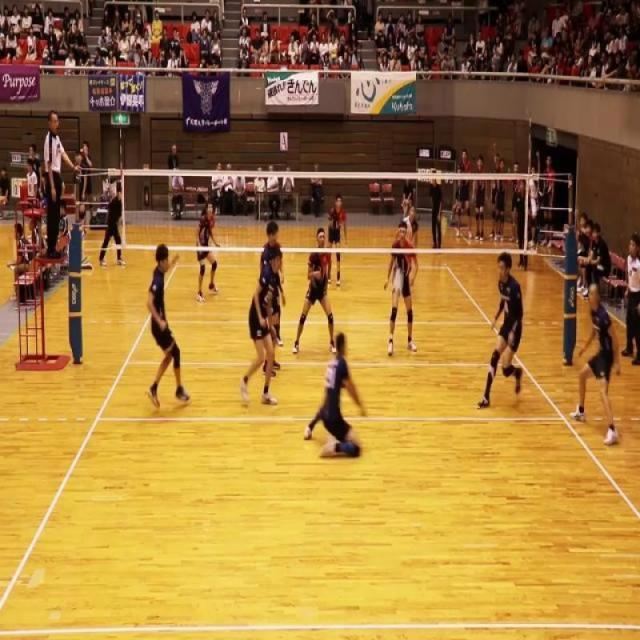volleyball: (391, 267, 404, 297)
